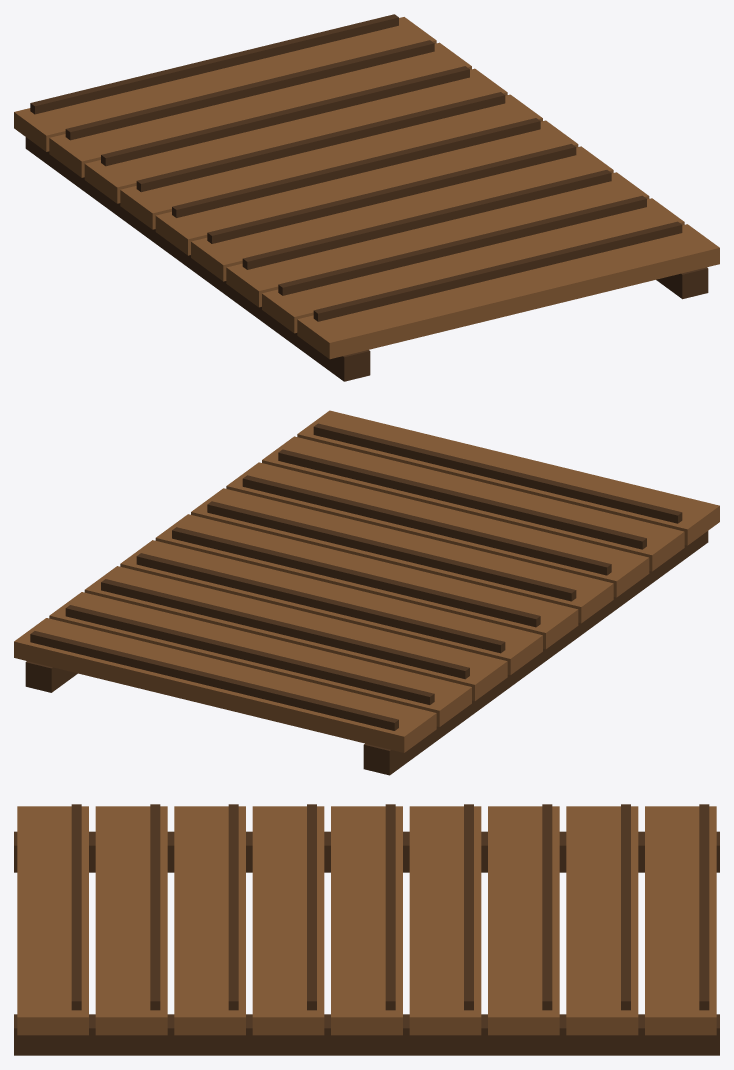
The model's file is Ramp.obj.
3 renders of one model, top to bottom at view 1: azimuth 30°, elevation 25°; view 2: azimuth 150°, elevation 25°; view 3: azimuth 270°, elevation 25°, orthographic. The views are drawn at different scales.
Visible parts, largest first — view 1: Ramp; view 2: Ramp; view 3: Ramp.
Part boxes in pixels (bbox=[...]): Ramp: bbox=[14, 14, 719, 381]; Ramp: bbox=[14, 410, 719, 775]; Ramp: bbox=[14, 804, 719, 1055].
Size of the model in its own units: 3 by 0.36 by 4.24.
